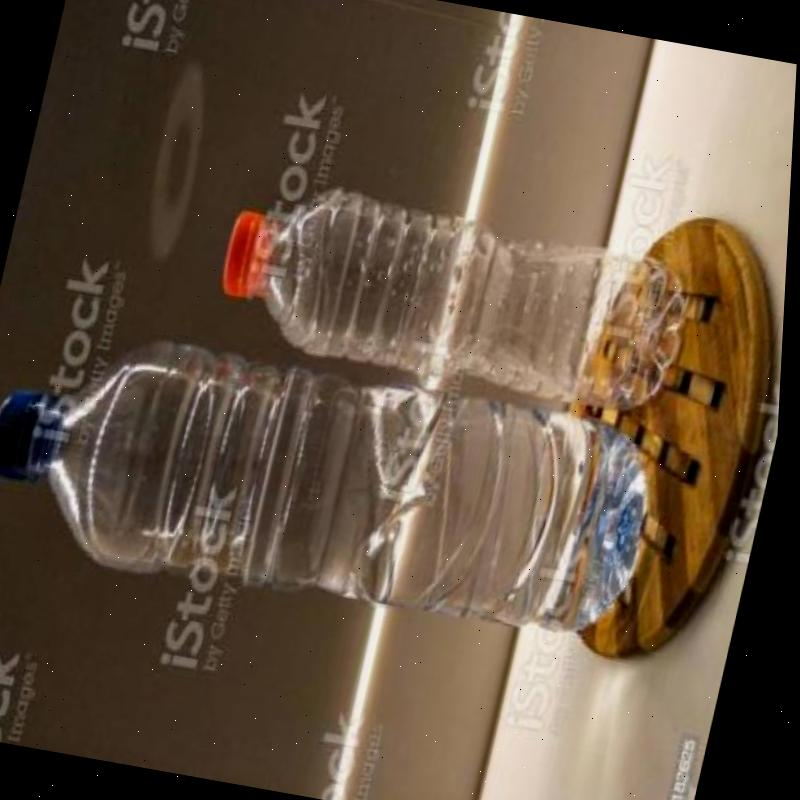botella: (0, 315, 673, 663), (207, 168, 708, 422)
